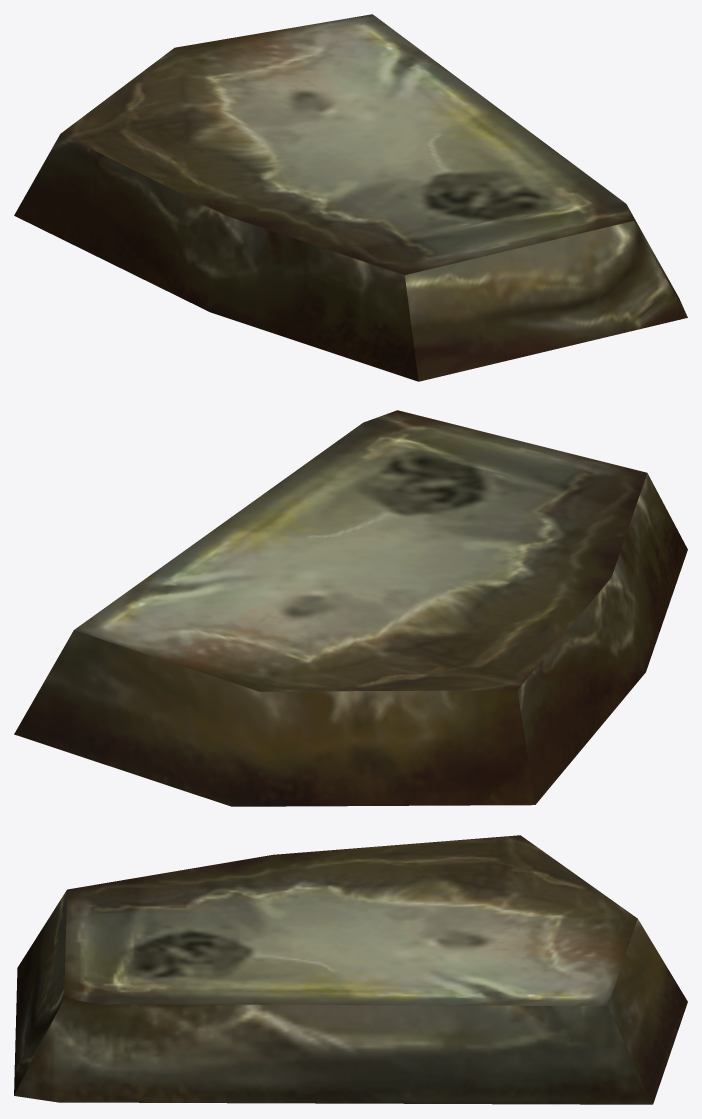
The model's file is C_dizhuan012.fbx.
The picture shows the model from 3 angles, top to bottom: view 1: azimuth 30°, elevation 25°; view 2: azimuth 150°, elevation 25°; view 3: azimuth 270°, elevation 25°; orthographic projection. The views are drawn at different scales.
Visible parts, largest first — view 1: C_dizhuan012; view 2: C_dizhuan012; view 3: C_dizhuan012.
Boxes of the visible parts, x1,y1,x2,y2 form: C_dizhuan012: [14, 14, 687, 381]; C_dizhuan012: [14, 410, 687, 806]; C_dizhuan012: [14, 835, 687, 1104].
Size of the model in its own units: 130 by 25.19 by 184.
